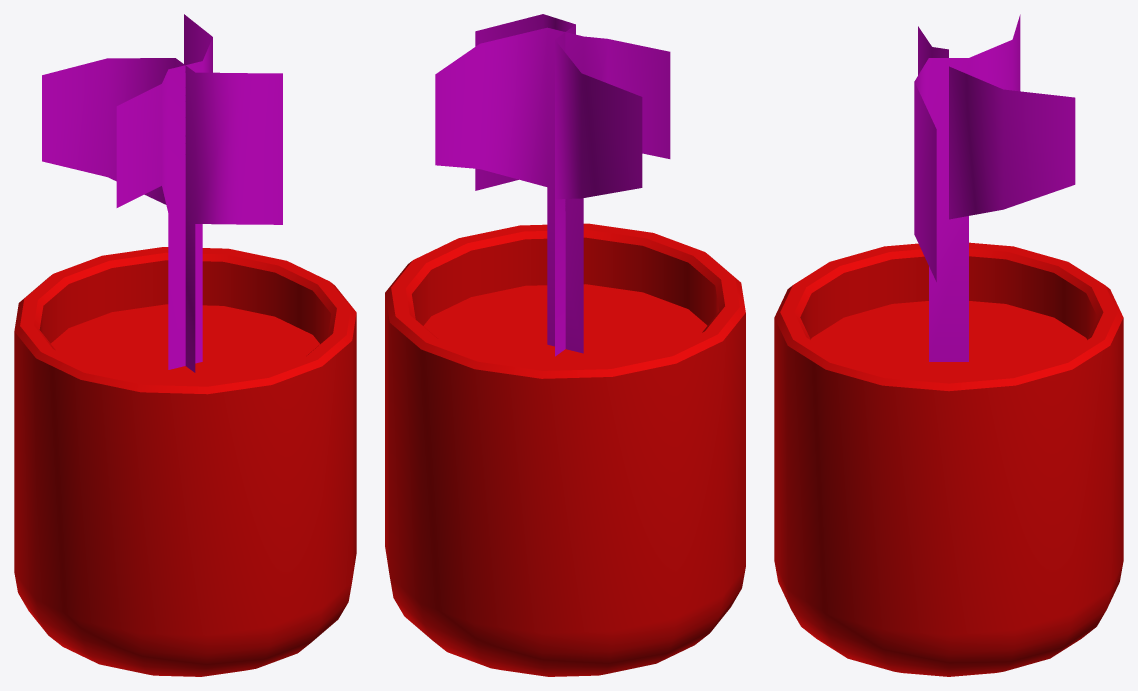
The model's file is TablePlant.fbx.
3 views of the same model, side by side, from view 1: azimuth 30°, elevation 25°; view 2: azimuth 150°, elevation 25°; view 3: azimuth 270°, elevation 25° (orthographic). The views are drawn at different scales.
Visible parts, largest first — view 1: Cylinder, Plane.001, Plane.002; view 2: Cylinder, Plane.001, Plane.002; view 3: Cylinder, Plane.001, Plane.002.
Part boxes in pixels (<box>): Cylinder: <box>14,247,356,676</box>; Plane.001: <box>42,14,282,372</box>; Plane.002: <box>42,15,282,371</box>; Cylinder: <box>385,223,745,676</box>; Plane.001: <box>435,14,670,356</box>; Plane.002: <box>435,14,670,355</box>; Cylinder: <box>774,242,1123,676</box>; Plane.001: <box>914,14,1075,361</box>; Plane.002: <box>914,17,1075,361</box>.
Bounding box in the file's own units: 200 × 361 × 200.
